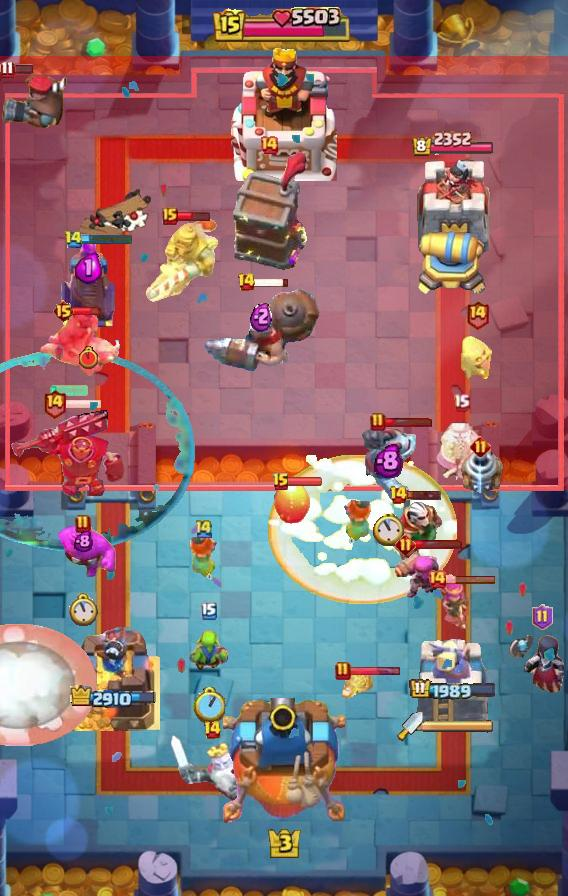bar: (416, 637, 490, 731)
bat-evolution: (459, 334, 495, 384)
cannon: (433, 581, 473, 631)
clock: (213, 7, 355, 45)
dart-goblin: (230, 152, 308, 272)
electro-spirit: (374, 443, 403, 477), (75, 252, 102, 284), (250, 301, 272, 332), (74, 530, 93, 552)
elixir: (193, 687, 225, 723), (373, 512, 404, 546), (69, 593, 98, 627), (79, 347, 98, 370)
elixir-collector: (432, 414, 490, 480)
elixir-golem-small: (360, 424, 416, 504)
emote: (82, 233, 135, 245), (349, 666, 401, 678), (445, 574, 497, 585), (383, 416, 433, 427), (413, 539, 463, 550), (65, 398, 102, 410), (406, 489, 443, 501), (176, 210, 211, 222), (0, 63, 34, 75), (253, 276, 290, 287), (287, 476, 323, 487), (72, 306, 104, 316)
freeze: (37, 310, 121, 376)
goblin-drill: (454, 446, 506, 502)
hog: (272, 481, 312, 525)
hog-rider: (338, 495, 376, 547), (185, 531, 223, 583)
ice-spirit: (49, 384, 89, 396)
ice-spirit-evolution: (339, 668, 375, 700)
ice-spirit-evolution-symbol: (58, 237, 118, 329)
inferno-tower: (10, 408, 128, 496)
king-tower: (223, 698, 345, 826), (231, 45, 337, 181)
king-tower-bar: (423, 719, 495, 733)
mortar-evolution: (168, 734, 256, 814)
pad_0: (0, 349, 196, 555)
phoenix-big: (266, 455, 458, 605)
phoenix-small: (0, 68, 70, 130)
queen-tower: (68, 627, 160, 731), (414, 160, 495, 257)
ram-rider: (142, 215, 220, 305)
rascal-boy: (506, 631, 568, 697)
royal-recruit: (417, 215, 491, 299)
selected: (70, 685, 158, 711), (411, 130, 495, 157), (409, 678, 497, 702)
skeleton-king: (381, 499, 445, 569)
text: (465, 298, 490, 329), (41, 389, 66, 420), (52, 299, 75, 323), (531, 604, 552, 630), (469, 435, 490, 457), (396, 533, 417, 555), (194, 518, 214, 539), (259, 135, 279, 155), (427, 569, 447, 589), (237, 272, 256, 292), (388, 485, 407, 505), (202, 720, 221, 740), (272, 472, 290, 492), (65, 231, 84, 249), (453, 393, 470, 412), (370, 412, 386, 432), (75, 514, 91, 534), (335, 661, 351, 681), (162, 207, 178, 225), (201, 602, 217, 620), (1, 61, 16, 79)
tombstone: (392, 548, 442, 600)
tornado: (49, 523, 117, 579)
wall-breaker: (0, 624, 96, 746)
wizard: (201, 285, 321, 375)
zap: (187, 625, 231, 680)
